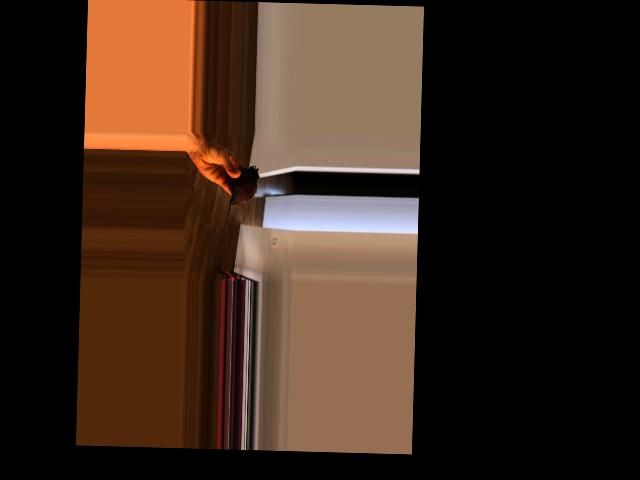beet: (227, 165, 259, 231)
